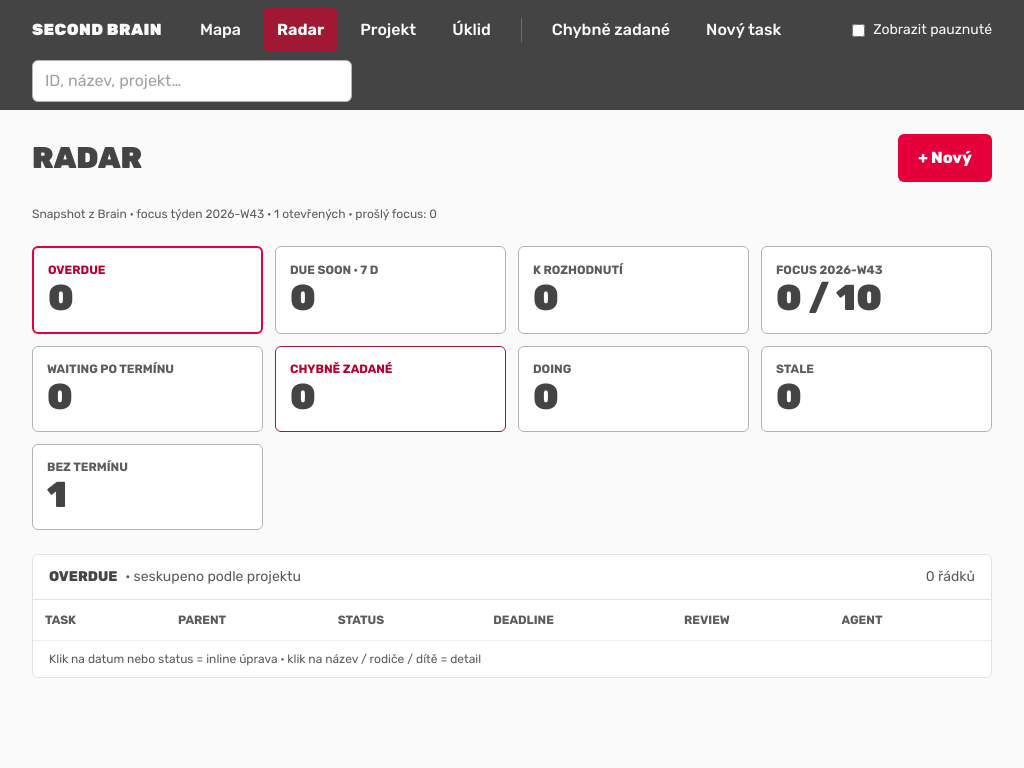
Test: screens › Úklid explains actions and opens detail on title double-click
This screenshot has width=1024, height=768.
Click the button "Úklid" at {"x": 471, "y": 30}, box top-left (438, 8), bottom-right (505, 52)
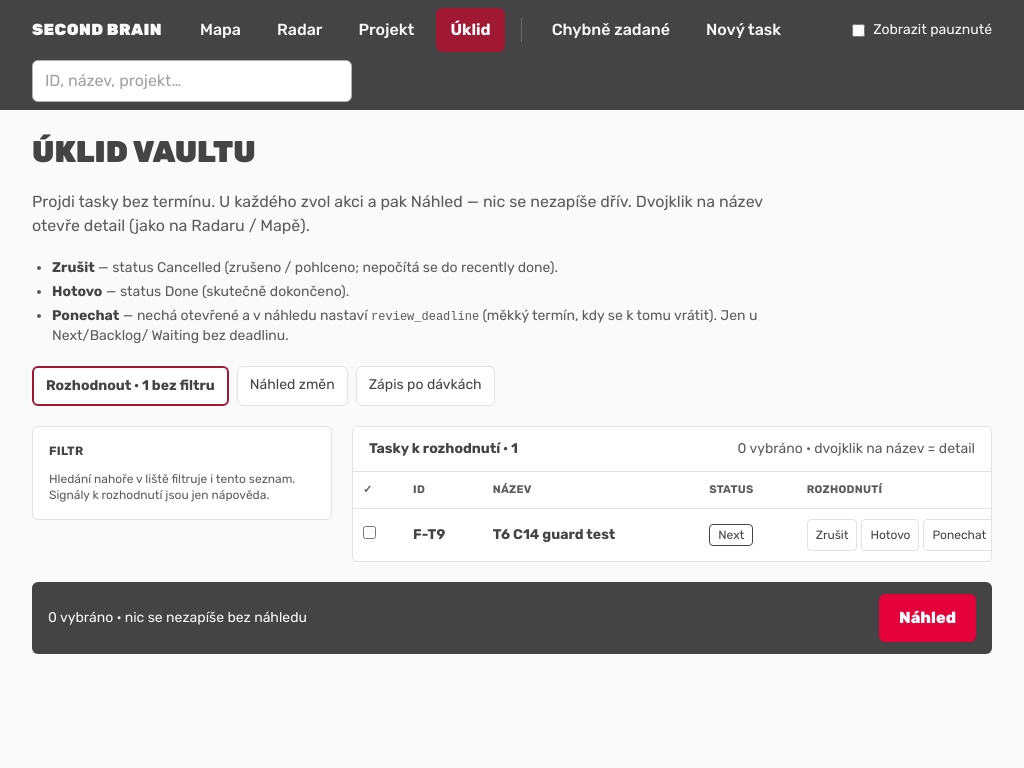
Check: the list item "Hotovo — status Done (skutečně dokončeno)." is shown, box top-left (52, 283), bottom-right (349, 300)
Double-click the button "T6 C14 guard test" at {"x": 554, "y": 535}, box top-left (493, 525), bottom-right (615, 545)
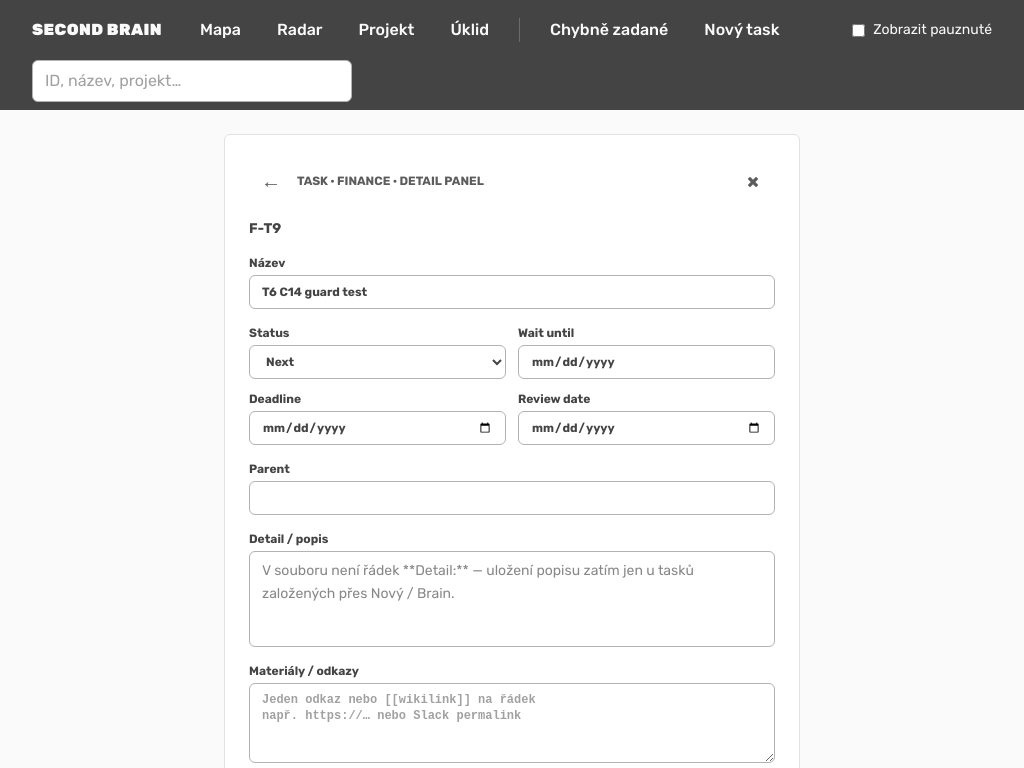
Check: the field labelled "Název" holds "T6 C14 guard test", box top-left (249, 275), bottom-right (775, 309)
